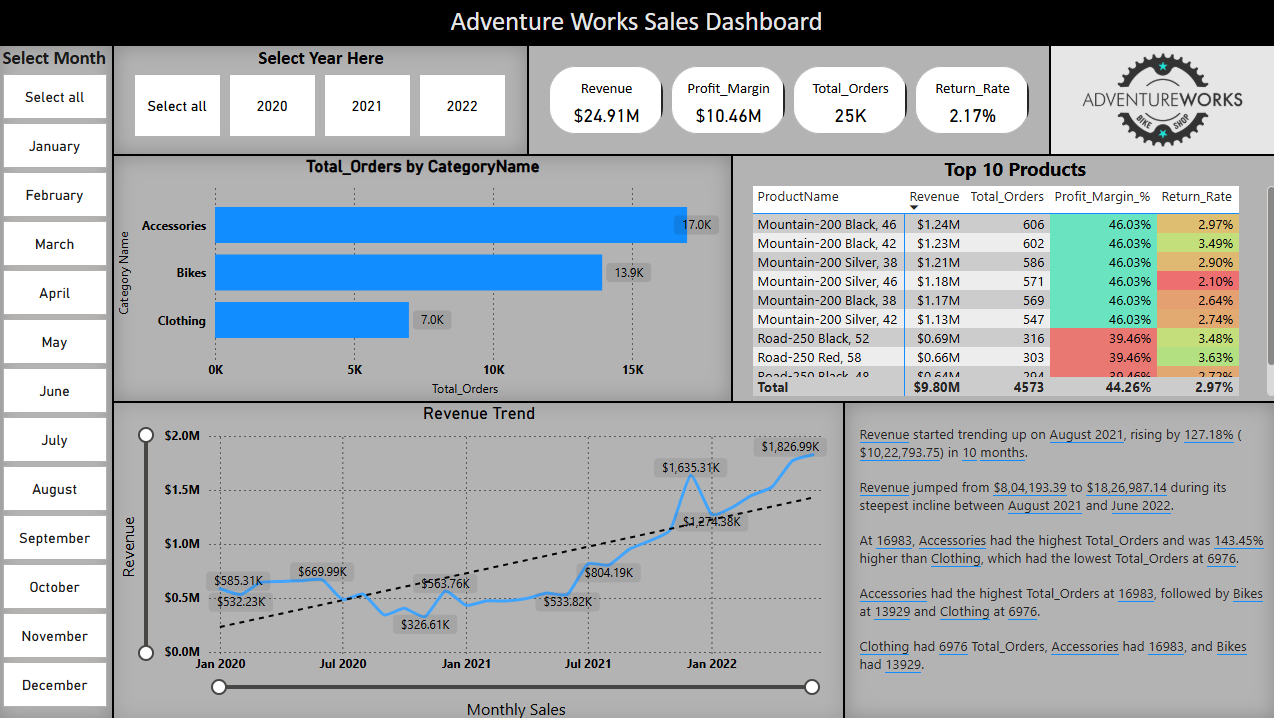

The dashboard page shown, as its layout file describes it:
{"tool":"powerbi","page":{"name":"Dashboard","canvas":[1280,720],"ordinal":5},"visuals":[{"type":"textbox","box":[0,0,1280,45],"z":0},{"type":"advancedSlicerVisual","title":"Select Month","fields":{"Values":["Calendar Lookup.Date.Variation.Date Hierarchy.Month"]},"box":[0,45,116,675],"z":1000},{"type":"advancedSlicerVisual","title":"Select Year Here","fields":{"Values":["Calendar Lookup.Date.Variation.Date Hierarchy.Year"]},"box":[116,45,415,110],"z":2000},{"type":"cardVisual","fields":{"Data":["Measure Table.Revenue","Measure Table.Profit_Margin","Measure Table.Total_Orders","Measure Table.Return_Rate"]},"box":[531,45,522,110],"z":3000},{"type":"lineChart","title":"Revenue Trend","fields":{"Category":["Calendar Lookup.Date.Variation.Date Hierarchy.Year","Calendar Lookup.Date.Variation.Date Hierarchy.Quarter","Calendar Lookup.Date.Variation.Date Hierarchy.Month","Calendar Lookup.Date.Variation.Date Hierarchy.Day"],"Y":["Measure Table.Revenue"]},"box":[116,402,731,318],"z":4000},{"type":"clusteredBarChart","fields":{"Category":["Product Categories Lookup.CategoryName"],"Y":["Measure Table.Total_Orders"]},"box":[116,155,619,247],"z":5000},{"type":"pivotTable","title":"Top 10 Products","fields":{"Rows":["Product Lookup.ProductName"],"Values":["Measure Table.Revenue","Measure Table.Total_Orders","Measure Table.Profit_Margin_%","Measure Table.Return_Rate"]},"box":[735,155,545,247],"z":6000},{"type":"textbox","box":[847,402,433,318],"z":7000},{"type":"image","box":[1053,45,227,110],"z":8000}]}

Visuals, with their boxes in screenshot pixels (x1, y1, x2, y2), scaled from the page's 1280x720 canvas onto the 1274x718 screenshot:
textbox: bbox=(0, 0, 1273, 45)
"Select Month" advancedSlicerVisual: bbox=(0, 45, 115, 717)
"Select Year Here" advancedSlicerVisual: bbox=(115, 45, 529, 155)
cardVisual - Measure Table.Revenue x Measure Table.Profit_Margin: bbox=(529, 45, 1048, 155)
"Revenue Trend" lineChart: bbox=(115, 401, 843, 717)
clusteredBarChart - Product Categories Lookup.CategoryName x Measure Table.Total_Orders: bbox=(115, 155, 732, 401)
"Top 10 Products" pivotTable: bbox=(732, 155, 1273, 401)
textbox: bbox=(843, 401, 1273, 717)
image: bbox=(1048, 45, 1273, 155)
